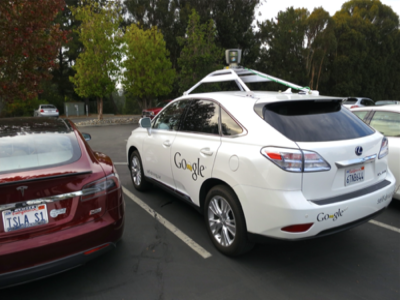licence: (3, 212, 45, 228), (345, 174, 365, 183)
